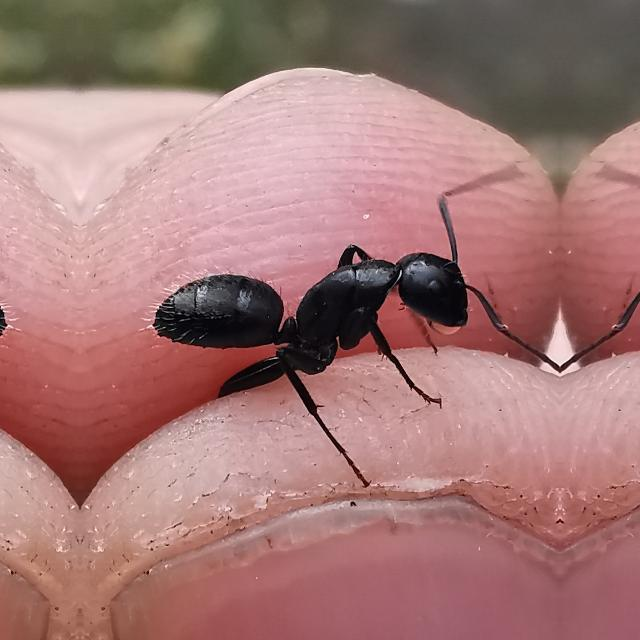Camponotus: (104, 173, 520, 453)
